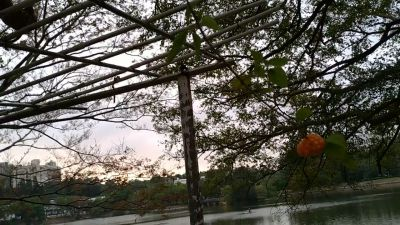eggs: (298, 133, 326, 158)
